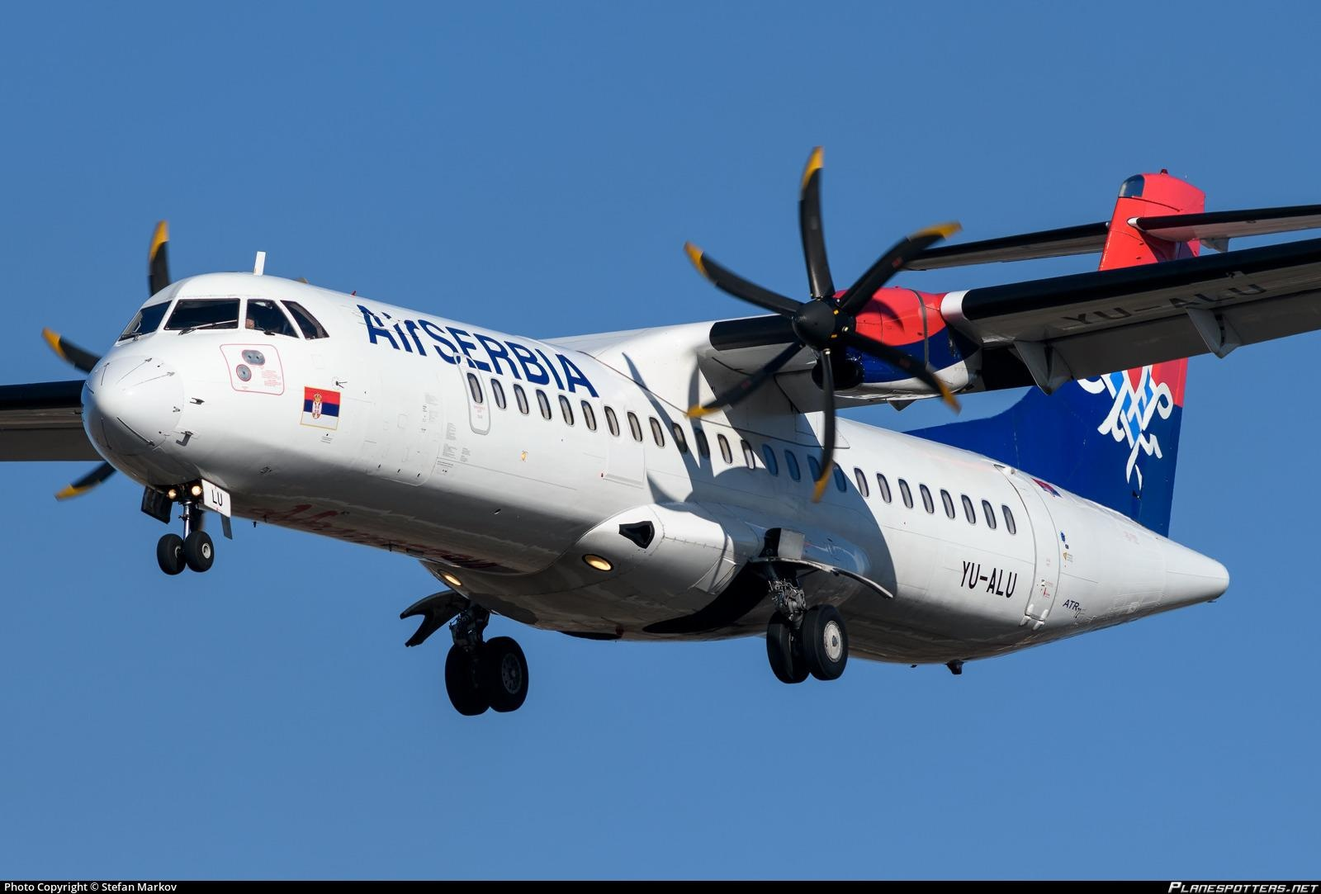aircraft: (25, 144, 1293, 717)
